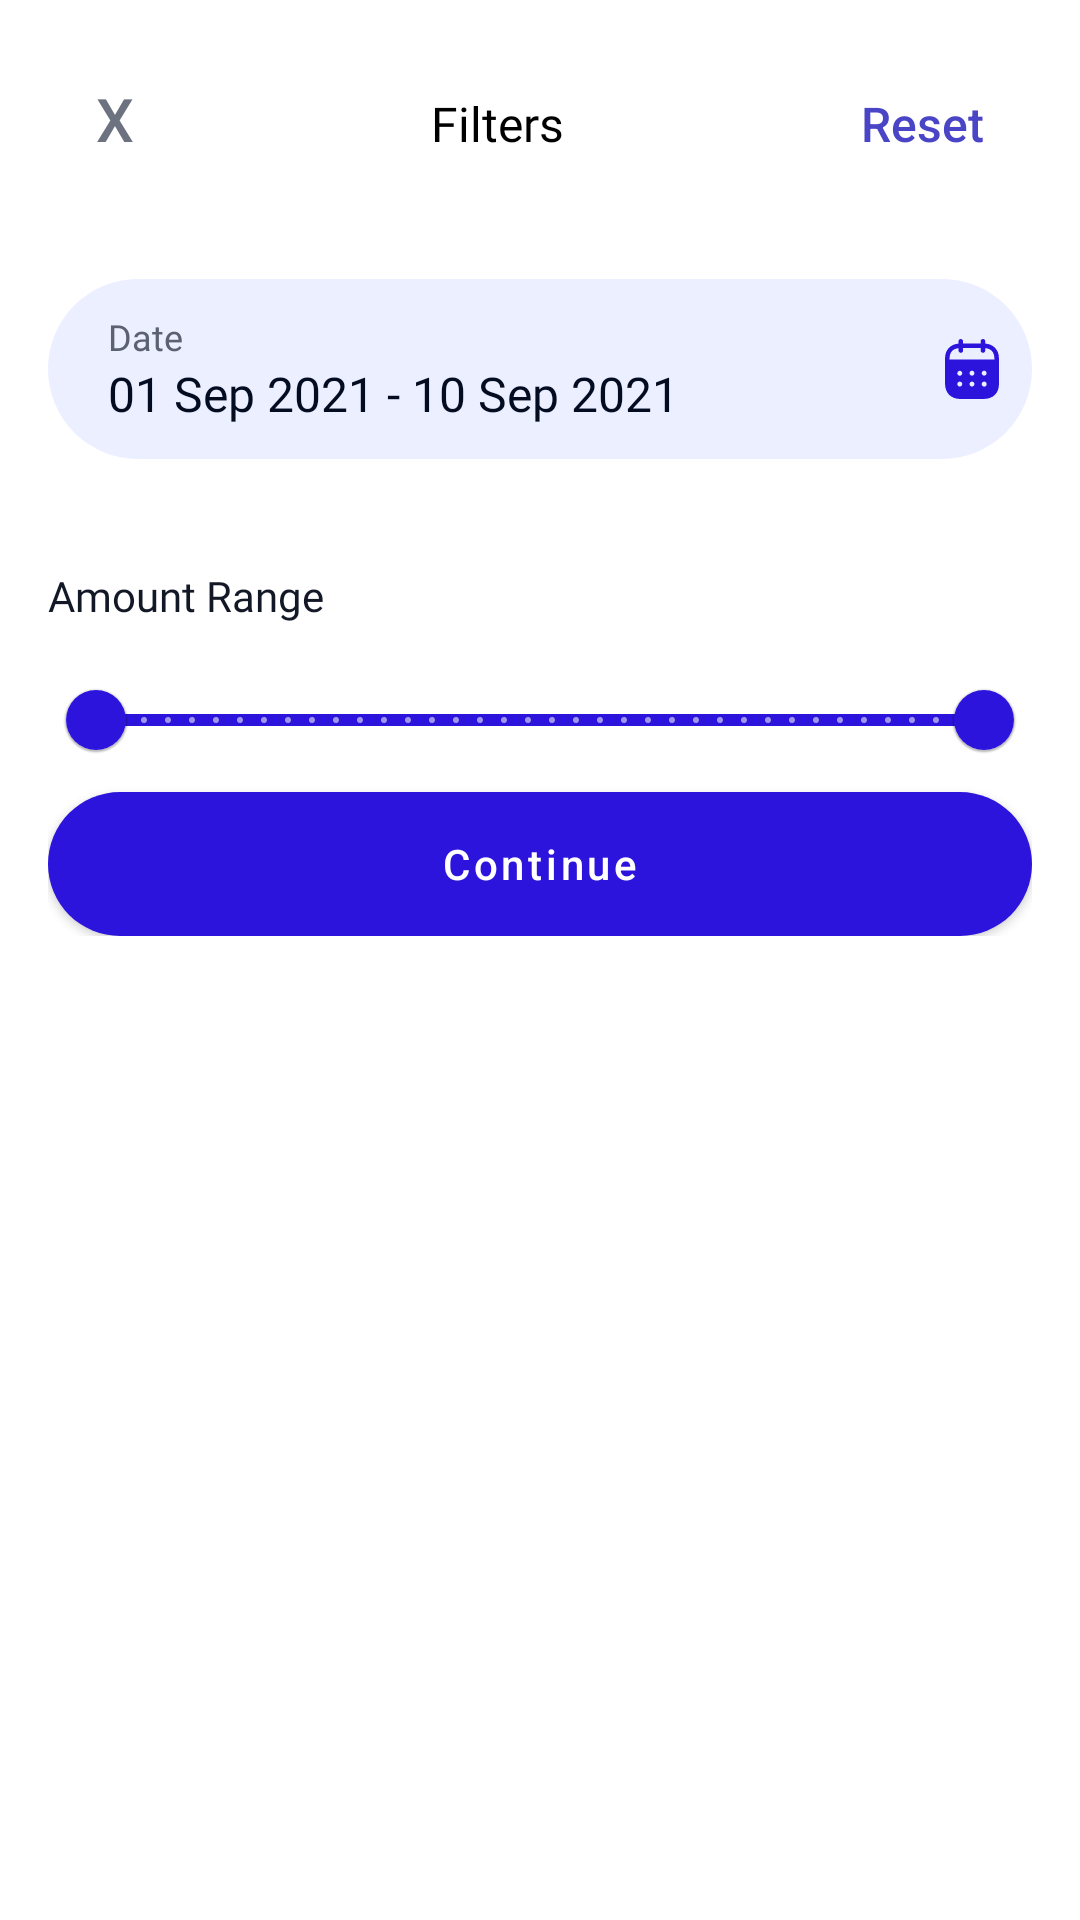

Screen size 1080*1920. Icon name, then its center in pixels as (x,y):
calendar: (972,369)
